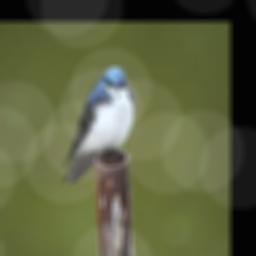Swallow: (60, 64, 135, 184)
